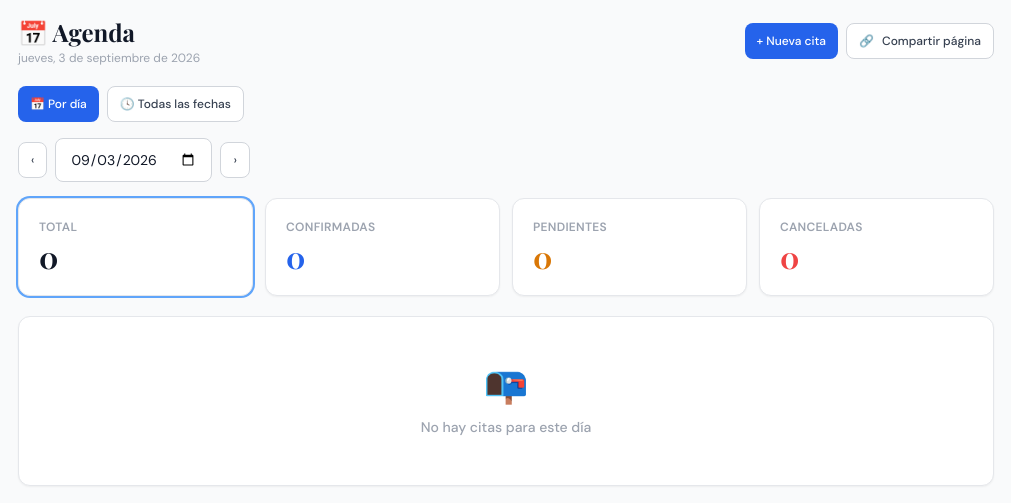
Test: AgendaPage — vista unificada (reemplaza Hoy/Mañana/Pendientes) › muestra un error real (no una lista vacía) si la consulta de "todas las fechas" falla
expect the text "No hay citas para este día" is shown: met, box [421,418,591,436]
Click the button "🕓 Todas las fechas". click: (175, 104)
box: [107,86,244,122]
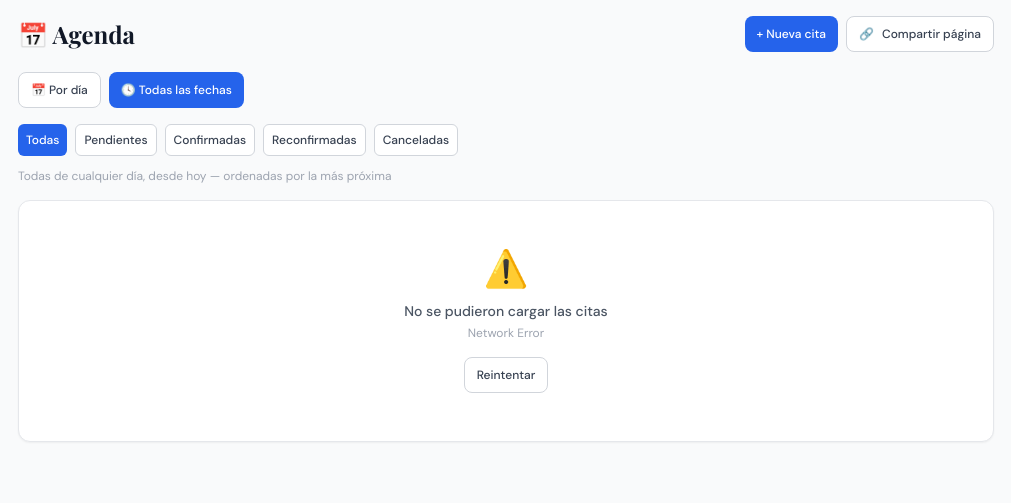
expect the text "No se pudieron cargar las citas" is shown: met, box [404,302,608,320]
